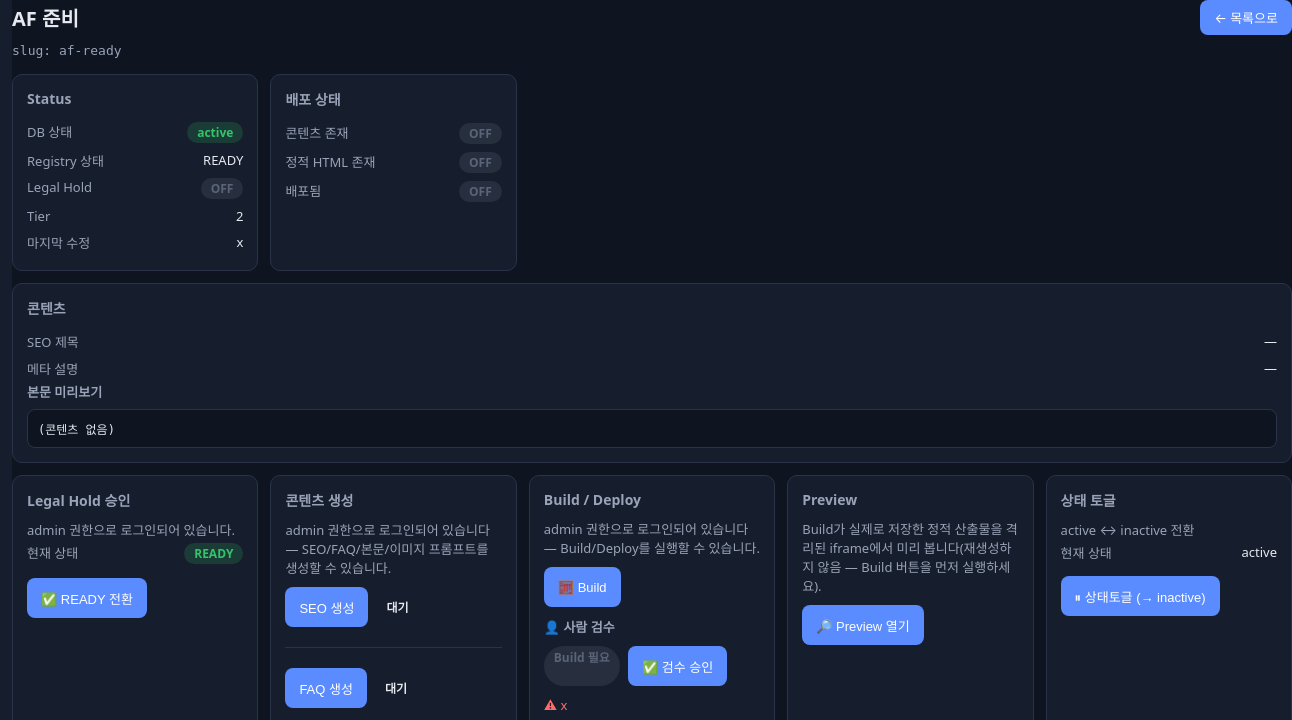
Scenario: GAP-01 상태토글 › shows current status and toggles active → inactive using the server response
The width and height of the screenshot is (1292, 720).
Expected: the text with test id "calc-db-status" reads "active", [1242,543,1277,561]
Click the button "⏸ 상태토글 (→ inactive)".
click(1140, 596)  # box [1061,576,1220,616]
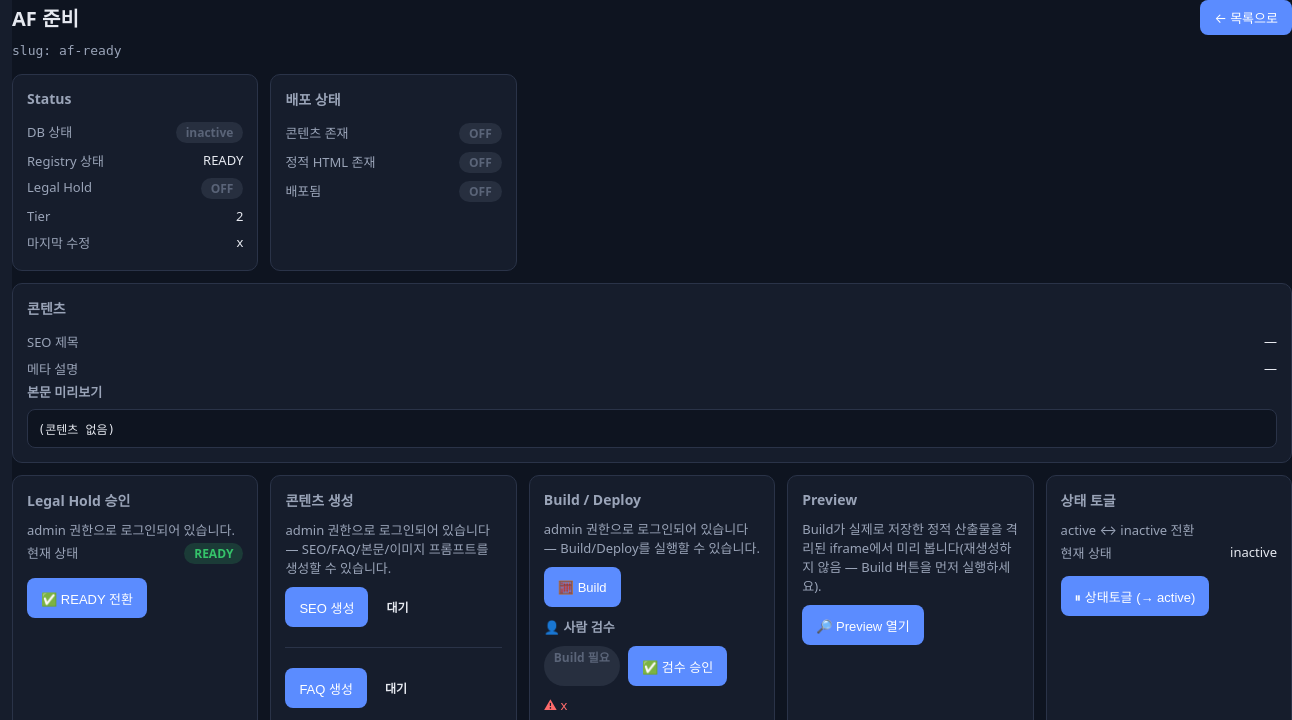
Now the text with test id "calc-db-status" reads "inactive", box [1230,543,1277,561]
Now the button "⏸ 상태토글 (→ active)" is shown, box [1061,576,1209,616]
